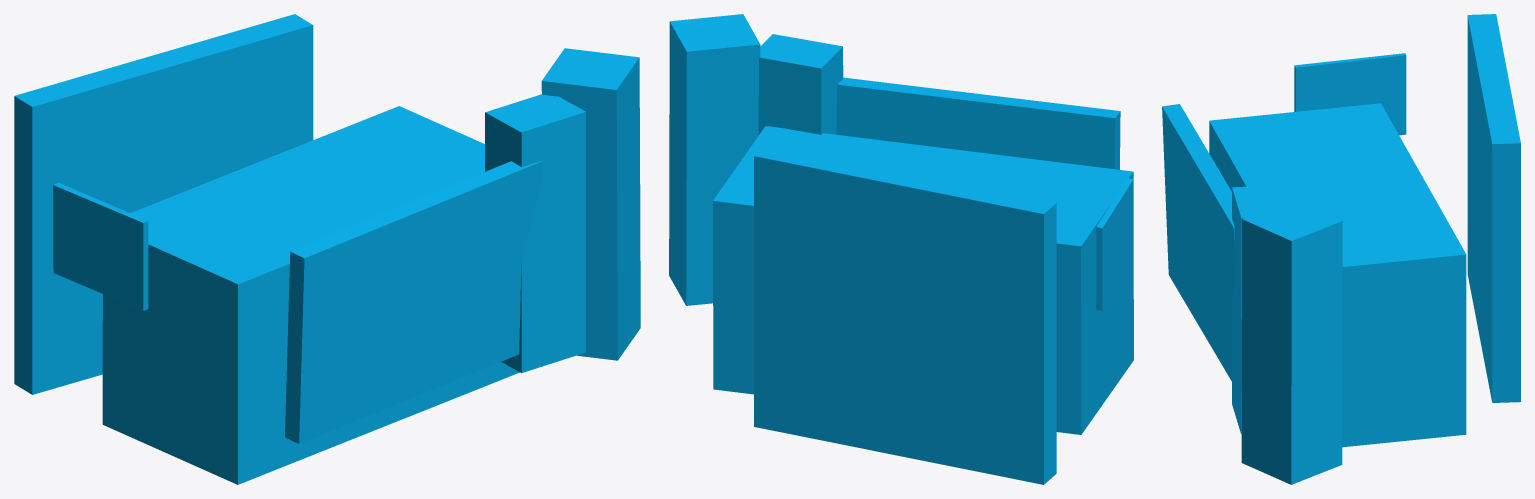
The model's file is TopGullyWinch_Col.fbx.
3 renders of one model, left to right at view 1: azimuth 30°, elevation 25°; view 2: azimuth 150°, elevation 25°; view 3: azimuth 270°, elevation 25°, orthographic. The views are drawn at different scales.
Parts seen in each view (by area): view 1: UBX_Winch_004_6, UBX_Wood_barricades_016__1_, UBX_Tool_rack_001__3__1, UBX_Cylinder_012_1, UBX_Cylinder_005_1, UBX_Code_of_signals; view 2: UBX_Wood_barricades_016__1_, UBX_Winch_004_6, UBX_Cylinder_005_1, UBX_Tool_rack_001__3__1, UBX_Cylinder_012_1, UBX_Code_of_signals; view 3: UBX_Winch_004_6, UBX_Cylinder_005_1, UBX_Wood_barricades_016__1_, UBX_Tool_rack_001__3__1, UBX_Code_of_signals, UBX_Cylinder_012_1.
Boxes of the visible parts, left/top/right/bottom form: UBX_Winch_004_6: left=102, top=106, right=519, bottom=484; UBX_Wood_barricades_016__1_: left=14, top=14, right=313, bottom=394; UBX_Tool_rack_001__3__1: left=285, top=161, right=542, bottom=443; UBX_Cylinder_012_1: left=485, top=94, right=585, bottom=372; UBX_Cylinder_005_1: left=541, top=48, right=640, bottom=360; UBX_Code_of_signals: left=53, top=182, right=148, bottom=310; UBX_Wood_barricades_016__1_: left=754, top=144, right=1056, bottom=484; UBX_Winch_004_6: left=713, top=126, right=1133, bottom=434; UBX_Cylinder_005_1: left=669, top=14, right=760, bottom=305; UBX_Tool_rack_001__3__1: left=836, top=77, right=1120, bottom=169; UBX_Cylinder_012_1: left=758, top=34, right=843, bottom=135; UBX_Code_of_signals: left=1096, top=178, right=1133, bottom=310; UBX_Winch_004_6: left=1209, top=103, right=1466, bottom=447; UBX_Cylinder_005_1: left=1241, top=199, right=1342, bottom=484; UBX_Wood_barricades_016__1_: left=1467, top=14, right=1520, bottom=402; UBX_Tool_rack_001__3__1: left=1162, top=104, right=1234, bottom=381; UBX_Code_of_signals: left=1294, top=53, right=1406, bottom=135; UBX_Cylinder_012_1: left=1232, top=184, right=1290, bottom=434.
Bounding box in the file's own units: 376 × 197 × 248.
